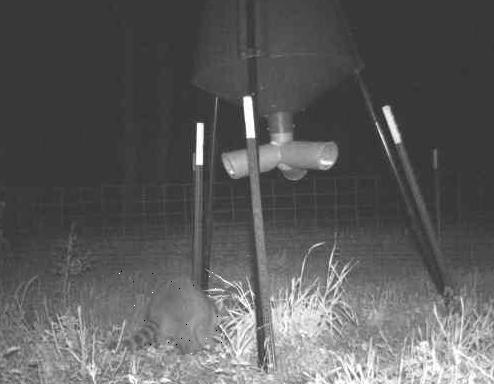Raccoon: (110, 271, 222, 360)
